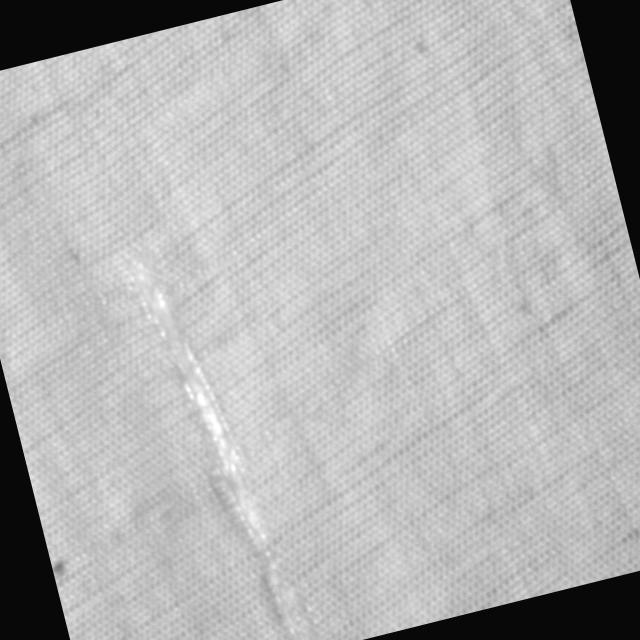thread error: (112, 225, 309, 640)
